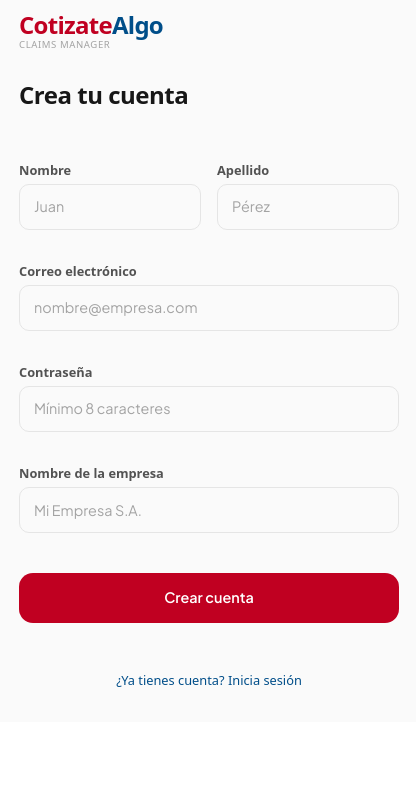
Test: RegisterForm › renders client-side validation errors for invalid submit
Click the button "Crear cuenta" at (209, 598), box [19,573,399,623]
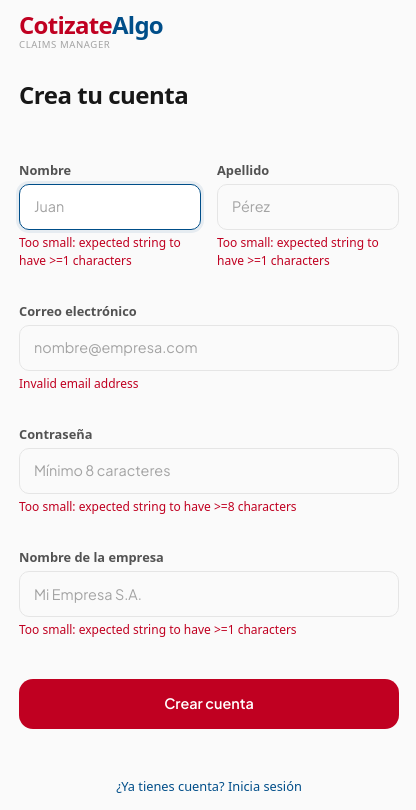
Expected: the 1st message is shown, [19,234,201,270]
